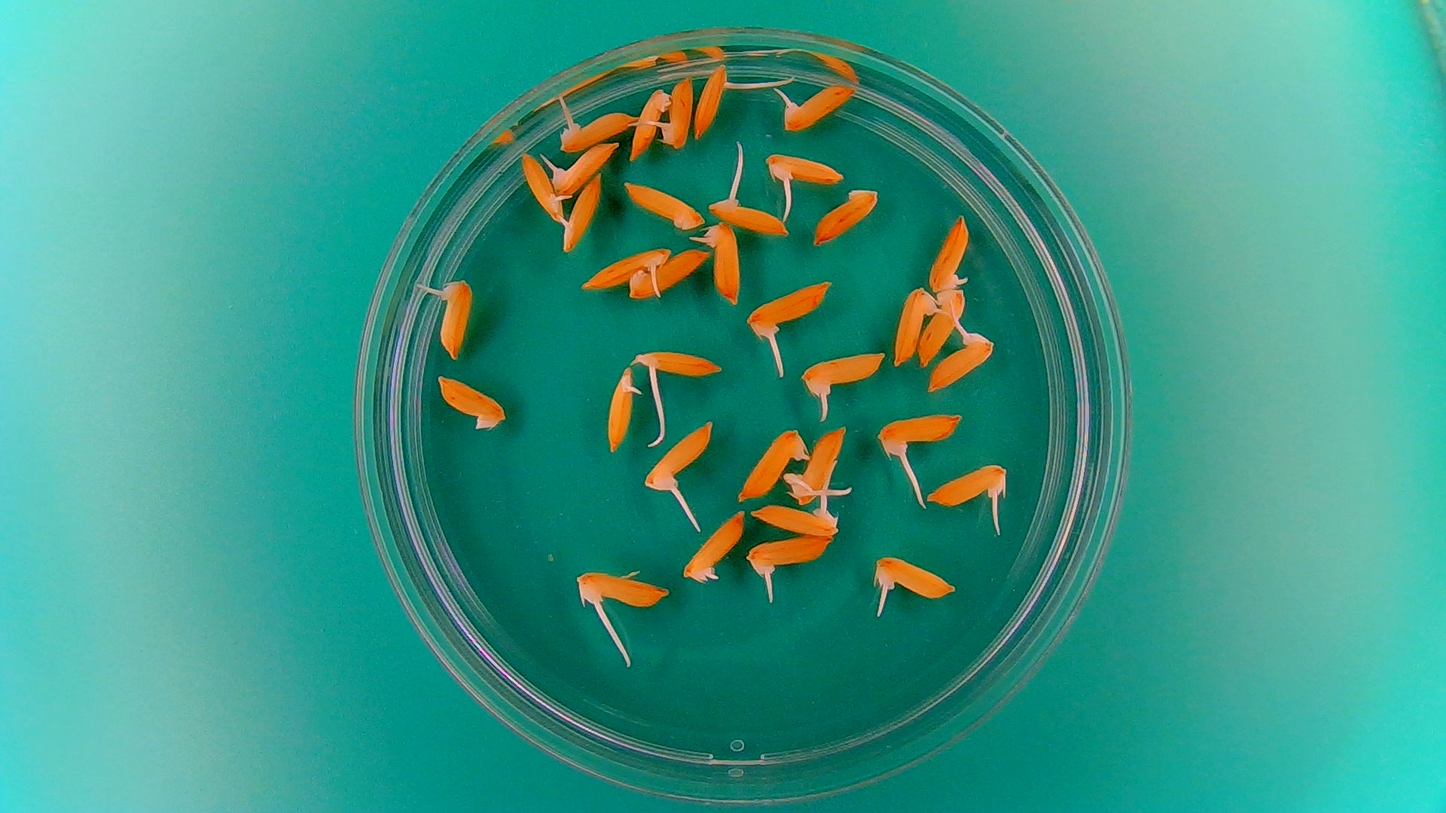no: (628, 245, 710, 303), (621, 178, 707, 230), (435, 375, 508, 432), (917, 288, 967, 370), (813, 188, 880, 246), (630, 85, 669, 163)
yes: (681, 505, 749, 586), (749, 483, 846, 537), (643, 421, 711, 492), (740, 430, 801, 504), (748, 283, 834, 335), (545, 139, 620, 197), (789, 424, 843, 504), (581, 247, 673, 293), (925, 461, 1011, 510), (801, 349, 885, 399), (869, 556, 953, 604), (926, 334, 993, 393), (890, 285, 938, 366), (558, 172, 605, 254), (518, 148, 568, 225), (780, 84, 857, 134), (557, 106, 633, 152), (700, 221, 742, 304), (749, 535, 832, 577), (878, 414, 959, 457), (927, 214, 970, 294), (605, 364, 640, 455), (692, 65, 736, 136), (577, 574, 662, 610), (708, 199, 786, 236), (439, 274, 472, 359), (764, 152, 844, 186), (637, 351, 718, 383), (660, 74, 694, 148)
